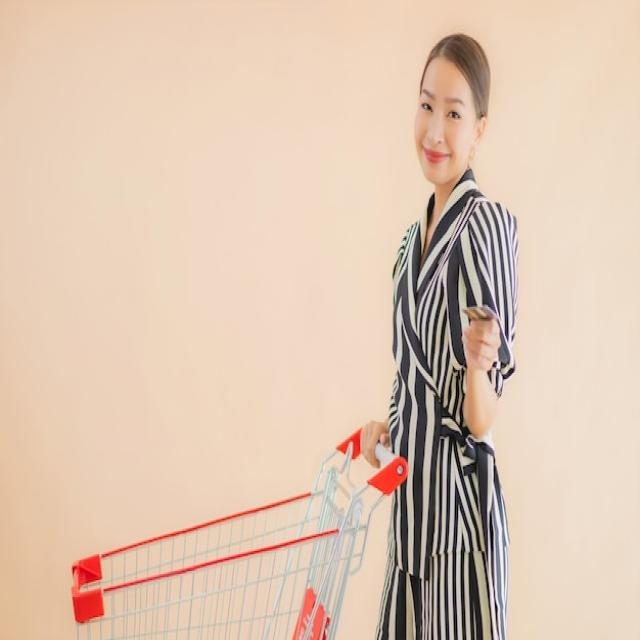Person: (362, 33, 518, 640)
